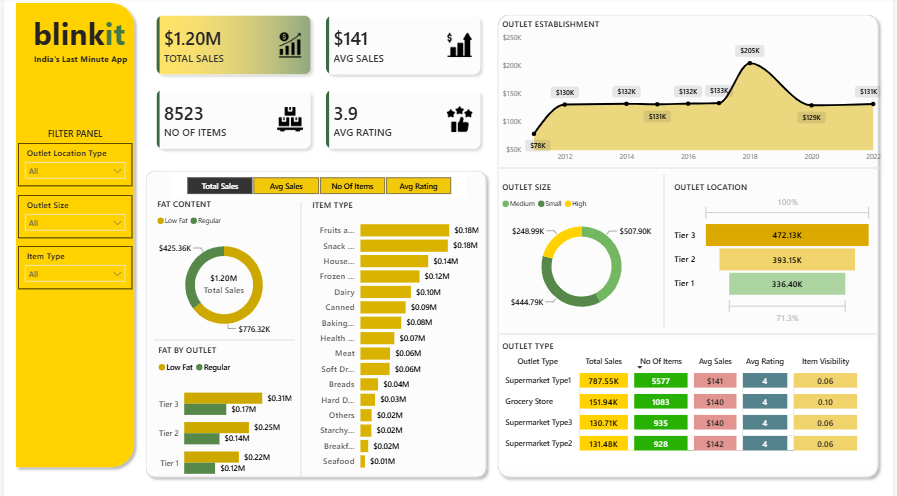

Layout of this report page (visuals, bound fields, positions):
{"tool":"powerbi","page":{"name":"Page 1","canvas":[1400,800],"ordinal":0},"visuals":[{"type":"shape","box":[10,0,205,750],"z":0},{"type":"textbox","box":[262.7,312.3,203.9,437.3],"z":1000},{"type":"textbox","box":[22,18.4,192.9,80.8],"z":2000},{"type":"textbox","box":[40.4,82.7,159.8,36.7],"z":3000},{"type":"cardVisual","fields":{"Data":["BlinkIT Grocery Data.Total Sales","BlinkIT Grocery Data.Avg Sales","BlinkIT Grocery Data.No Of Items","BlinkIT Grocery Data.Avg Rating"]},"box":[211,0,568.5,269.3],"z":4000},{"type":"shape","box":[214.2,264.6,554.3,500.8],"z":5000},{"type":"donutChart","title":"FAT CONTENT","fields":{"Y":["BlinkIT Grocery Data.Total Sales"],"Category":["BlinkIT Grocery Data.Item Fat Content"]},"box":[236.2,316.5,220.5,229.9],"z":6000},{"type":"slicer","fields":{"Values":["Metrics.Metrics"]},"box":[263,277.2,465,40],"z":7000},{"type":"cardVisual","fields":{"Data":["BlinkIT Grocery Data.Total Sales"]},"box":[280.3,418.9,132.3,66.1],"z":8000},{"type":"clusteredBarChart","title":"FAT BY OUTLET","fields":{"Y":["BlinkIT Grocery Data.Total Sales"],"Category":["BlinkIT Grocery Data.Outlet Location Type"],"Series":["BlinkIT Grocery Data.Item Fat Content"]},"box":[237.8,546.5,220.5,229.9],"z":9000},{"type":"shape","box":[236.2,508.7,222,63],"z":10000},{"type":"shape","box":[368.5,322.8,198.4,433.1],"z":11000},{"type":"barChart","title":"ITEM TYPE","fields":{"Category":["BlinkIT Grocery Data.Item Type"],"Y":["BlinkIT Grocery Data.Total Sales"]},"box":[480.3,318.1,272.4,437.8],"z":11001},{"type":"shape","box":[768.5,18.9,617.3,746.5],"z":11002},{"type":"lineChart","title":"OUTLET ESTABLISHMENT","fields":{"Y":["BlinkIT Grocery Data.Total Sales"],"Category":["BlinkIT Grocery Data.Outlet Establishment Year"]},"box":[779.5,33.1,606.3,236.2],"z":11003},{"type":"shape","box":[779.5,237.8,606.3,63],"z":11004},{"type":"donutChart","title":"OUTLET SIZE","fields":{"Y":["BlinkIT Grocery Data.Total Sales"],"Category":["BlinkIT Grocery Data.Outlet Size"]},"box":[779.5,289.8,259.8,225.2],"z":11005},{"type":"shape","box":[940.2,278.7,198.4,242.5],"z":11006},{"type":"funnel","title":"OUTLET LOCATION","fields":{"Y":["Sum(BlinkIT Grocery Data.Sales)"],"Category":["BlinkIT Grocery Data.Outlet Location Type"]},"box":[1050.4,289.8,321.3,229.9],"z":11007},{"type":"shape","box":[779.5,499.2,595.3,63],"z":11008},{"type":"pivotTable","title":"OUTLET TYPE","fields":{"Rows":["BlinkIT Grocery Data.Outlet Type"],"Values":["Sum(BlinkIT Grocery Data.Sales)","BlinkIT Grocery Data.No Of Items","BlinkIT Grocery Data.Avg Sales","BlinkIT Grocery Data.Avg Rating","Avg(BlinkIT Grocery Data.Item Visibility)"]},"box":[779.5,540.2,592.1,206.3],"z":11009},{"type":"slicer","fields":{"Values":["BlinkIT Grocery Data.Outlet Location Type"]},"box":[22,229.9,179.5,67.7],"z":11010},{"type":"slicer","fields":{"Values":["BlinkIT Grocery Data.Outlet Size"]},"box":[22,311.8,179.5,67.7],"z":11011},{"type":"slicer","fields":{"Values":["BlinkIT Grocery Data.Item Type"]},"box":[22,392.1,179.5,67.7],"z":11012},{"type":"textbox","box":[22,200,179.5,37.8],"z":11013}]}

Visuals, with their boxes on the page's 1400x800 design canvas (x1, y1, x2, y2). These are canvas units, not pixel positions in the 897x496 screenshot, which may show the page scaled, cropped or inside an application window:
shape: bbox(10, 0, 215, 750)
textbox: bbox(263, 312, 467, 750)
textbox: bbox(22, 18, 215, 99)
textbox: bbox(40, 83, 200, 119)
cardVisual - BlinkIT Grocery Data.Total Sales x BlinkIT Grocery Data.Avg Sales: bbox(211, 0, 780, 269)
shape: bbox(214, 265, 768, 765)
"FAT CONTENT" donutChart: bbox(236, 316, 457, 546)
slicer - Metrics.Metrics: bbox(263, 277, 728, 317)
cardVisual - BlinkIT Grocery Data.Total Sales: bbox(280, 419, 413, 485)
"FAT BY OUTLET" clusteredBarChart: bbox(238, 546, 458, 776)
shape: bbox(236, 509, 458, 572)
shape: bbox(368, 323, 567, 756)
"ITEM TYPE" barChart: bbox(480, 318, 753, 756)
shape: bbox(768, 19, 1386, 765)
"OUTLET ESTABLISHMENT" lineChart: bbox(780, 33, 1386, 269)
shape: bbox(780, 238, 1386, 301)
"OUTLET SIZE" donutChart: bbox(780, 290, 1039, 515)
shape: bbox(940, 279, 1139, 521)
"OUTLET LOCATION" funnel: bbox(1050, 290, 1372, 520)
shape: bbox(780, 499, 1375, 562)
"OUTLET TYPE" pivotTable: bbox(780, 540, 1372, 746)
slicer - BlinkIT Grocery Data.Outlet Location Type: bbox(22, 230, 202, 298)
slicer - BlinkIT Grocery Data.Outlet Size: bbox(22, 312, 202, 380)
slicer - BlinkIT Grocery Data.Item Type: bbox(22, 392, 202, 460)
textbox: bbox(22, 200, 202, 238)
